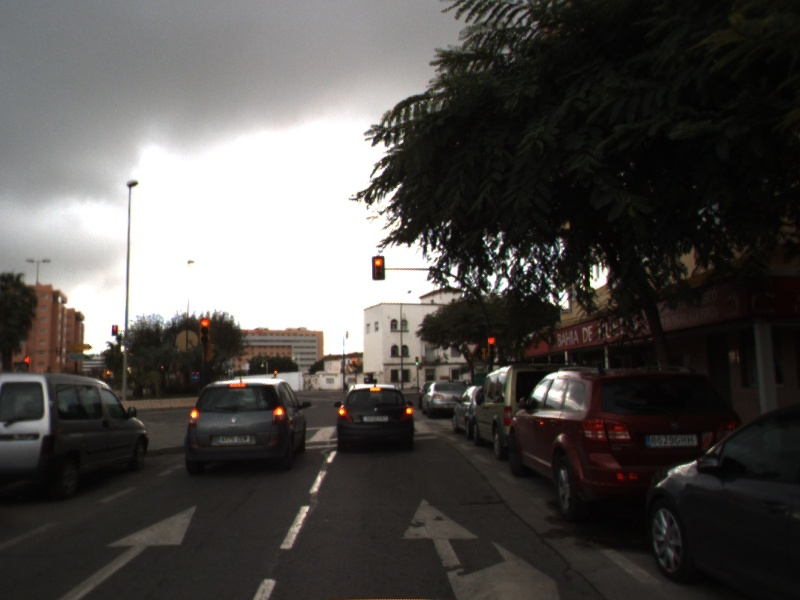STRAIGHT: (58, 503, 199, 600)
STRAIGHT_RIGHT: (400, 496, 562, 600)
